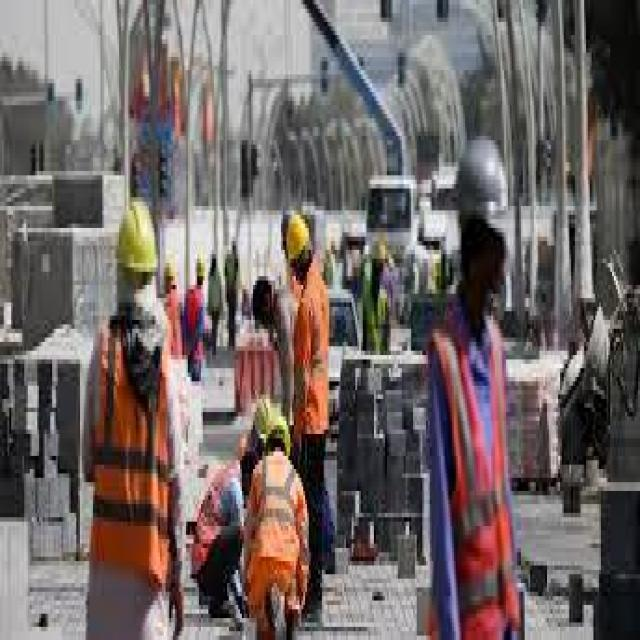Reflective-Jacket: (418, 302, 528, 640), (80, 307, 180, 596), (252, 452, 308, 621), (290, 268, 337, 447), (188, 456, 247, 583)
Safety-Helmet: (443, 114, 519, 267), (108, 184, 164, 303), (279, 202, 316, 272), (250, 399, 273, 446), (365, 235, 394, 265), (161, 253, 183, 291), (196, 250, 208, 289)
